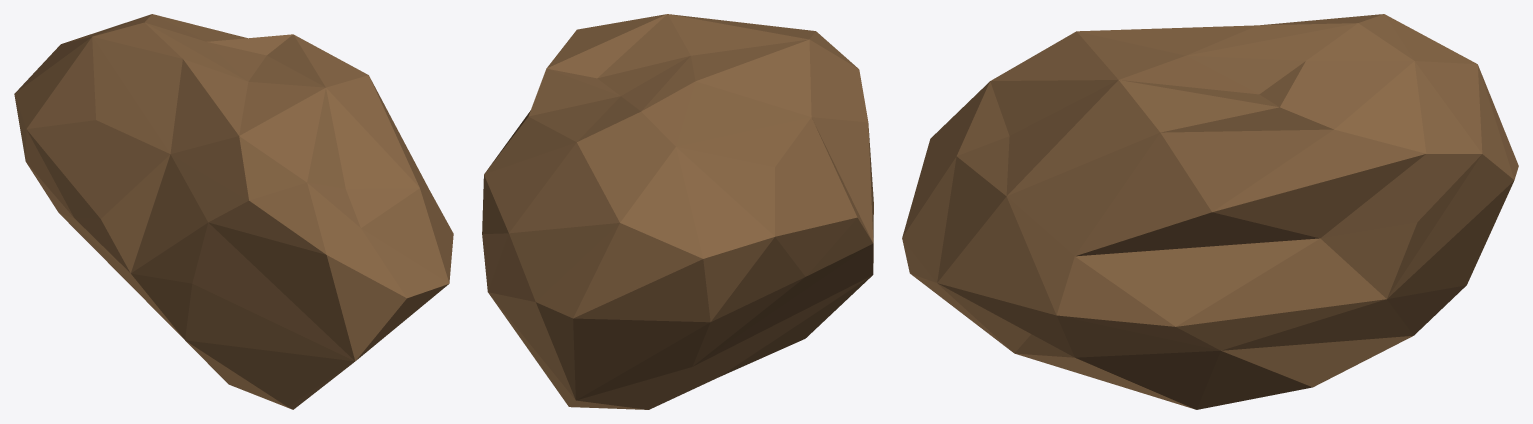
The model's file is Rock.fbx.
The picture shows the model from 3 angles, left to right: view 1: azimuth 30°, elevation 25°; view 2: azimuth 150°, elevation 25°; view 3: azimuth 270°, elevation 25°; orthographic projection. The views are drawn at different scales.
Parts seen in each view (by area): view 1: rock; view 2: rock; view 3: rock.
Boxes of the visible parts, bbox=[...] form: rock: bbox=[14, 14, 453, 409]; rock: bbox=[482, 14, 873, 409]; rock: bbox=[902, 14, 1518, 409].
Bounding box in the file's own units: 1.82 × 1.64 × 2.79.
